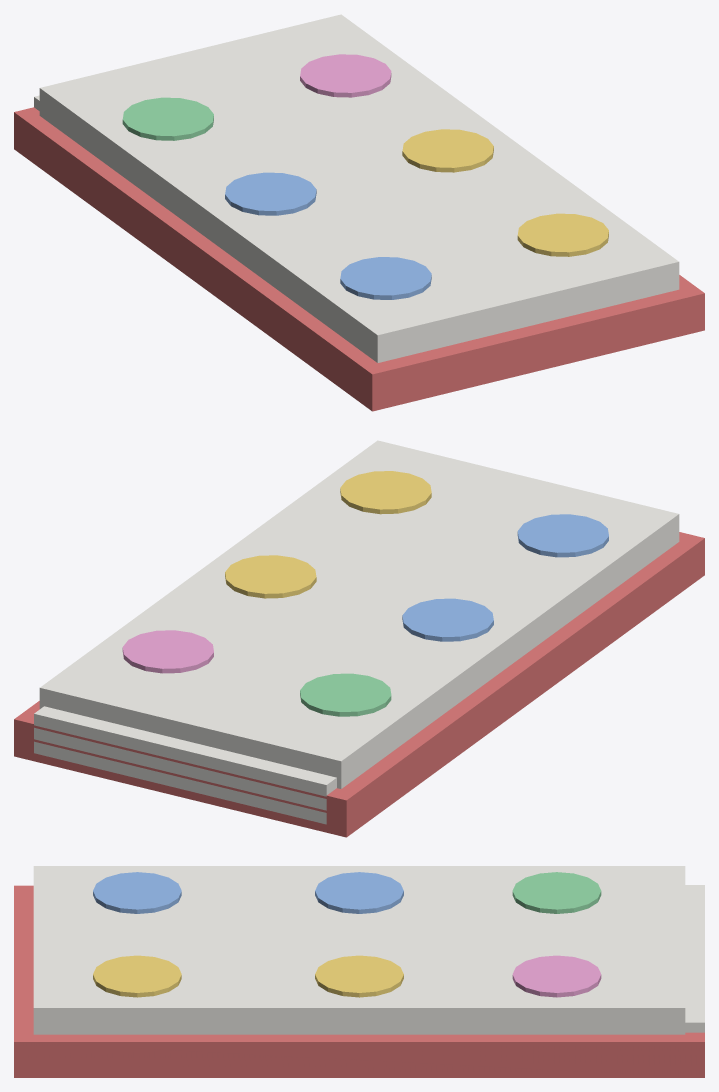
Rendered from item_34_sticker_book.glb.
3 renders of one model, top to bottom at view 1: azimuth 30°, elevation 25°; view 2: azimuth 150°, elevation 25°; view 3: azimuth 270°, elevation 25°, orthographic. The views are drawn at different scales.
Visible parts, largest first — view 1: I34_Pages, I34_Cover, I34_Sticker3, I34_Sticker5, I34_Sticker4, I34_Sticker2, I34_Sticker1, I34_Sticker0; view 2: I34_Pages, I34_Cover, I34_PageEdge2, I34_PageEdge0, I34_PageEdge1, I34_Sticker2, I34_Sticker5, I34_Sticker0, I34_Sticker3, I34_Sticker4, I34_Sticker1; view 3: I34_Pages, I34_Cover, I34_Sticker3, I34_Sticker1, I34_Sticker2, I34_Sticker5, I34_Sticker4, I34_Sticker0, I34_PageEdge2.
Boxes of the visible parts, <box> form: I34_Pages: <box>39,14,679,362</box>; I34_Cover: <box>14,107,704,411</box>; I34_Sticker3: <box>300,54,391,97</box>; I34_Sticker5: <box>402,129,493,172</box>; I34_Sticker4: <box>225,172,316,215</box>; I34_Sticker2: <box>122,97,213,140</box>; I34_Sticker1: <box>517,213,608,256</box>; I34_Sticker0: <box>340,257,431,299</box>; I34_Pages: <box>39,440,679,788</box>; I34_Cover: <box>14,532,704,837</box>; I34_PageEdge2: <box>34,706,336,796</box>; I34_PageEdge0: <box>34,741,326,824</box>; I34_PageEdge1: <box>34,727,326,810</box>; I34_Sticker2: <box>300,673,391,716</box>; I34_Sticker5: <box>225,555,316,598</box>; I34_Sticker0: <box>517,514,608,557</box>; I34_Sticker3: <box>122,630,213,673</box>; I34_Sticker4: <box>402,598,493,641</box>; I34_Sticker1: <box>340,471,431,514</box>; I34_Pages: <box>33,866,685,1034</box>; I34_Cover: <box>14,885,704,1077</box>; I34_Sticker3: <box>512,955,601,997</box>; I34_Sticker1: <box>93,955,181,997</box>; I34_Sticker2: <box>512,872,601,913</box>; I34_Sticker5: <box>315,955,403,997</box>; I34_Sticker4: <box>315,872,403,913</box>; I34_Sticker0: <box>93,872,181,913</box>; I34_PageEdge2: <box>685,885,704,1032</box>.
Size of the model in its own units: 0.075 by 0.015 by 0.14.
